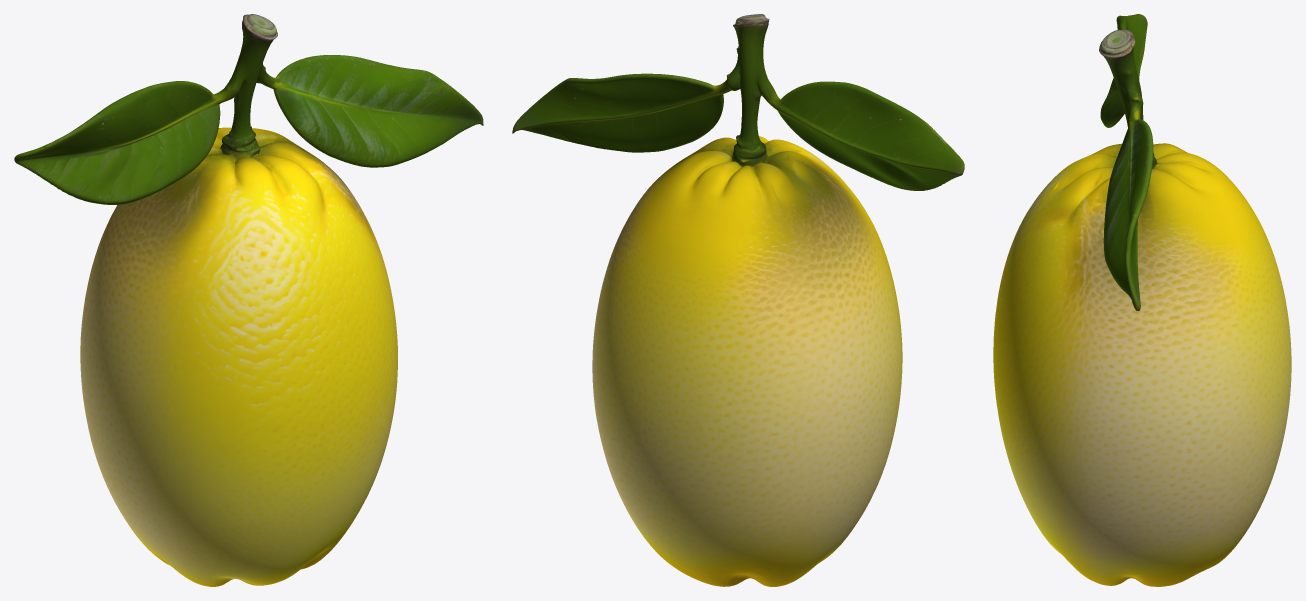
The model's file is xiangyuan.glb.
3 views of the same model, side by side, from view 1: azimuth 30°, elevation 25°; view 2: azimuth 150°, elevation 25°; view 3: azimuth 270°, elevation 25° (orthographic). The views are drawn at different scales.
Parts seen in each view (by area): view 1: node_0; view 2: node_0; view 3: node_0.
Part boxes in pixels (x1=…): node_0: x1=14, y1=14, x2=483, y2=586; node_0: x1=512, y1=14, x2=964, y2=586; node_0: x1=993, y1=14, x2=1291, y2=586.
Bounding box in the file's own units: 0.9571 × 1.09 × 0.552.
1 material, 1 textured.
